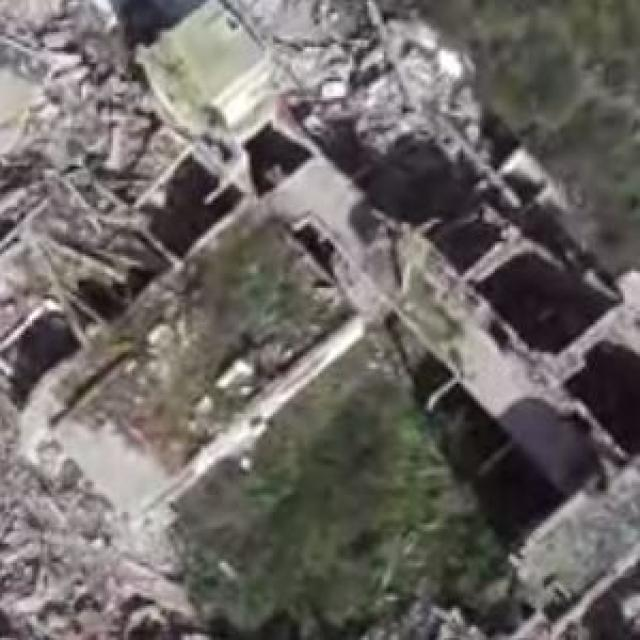collapsed_building: (0, 28, 634, 627)
